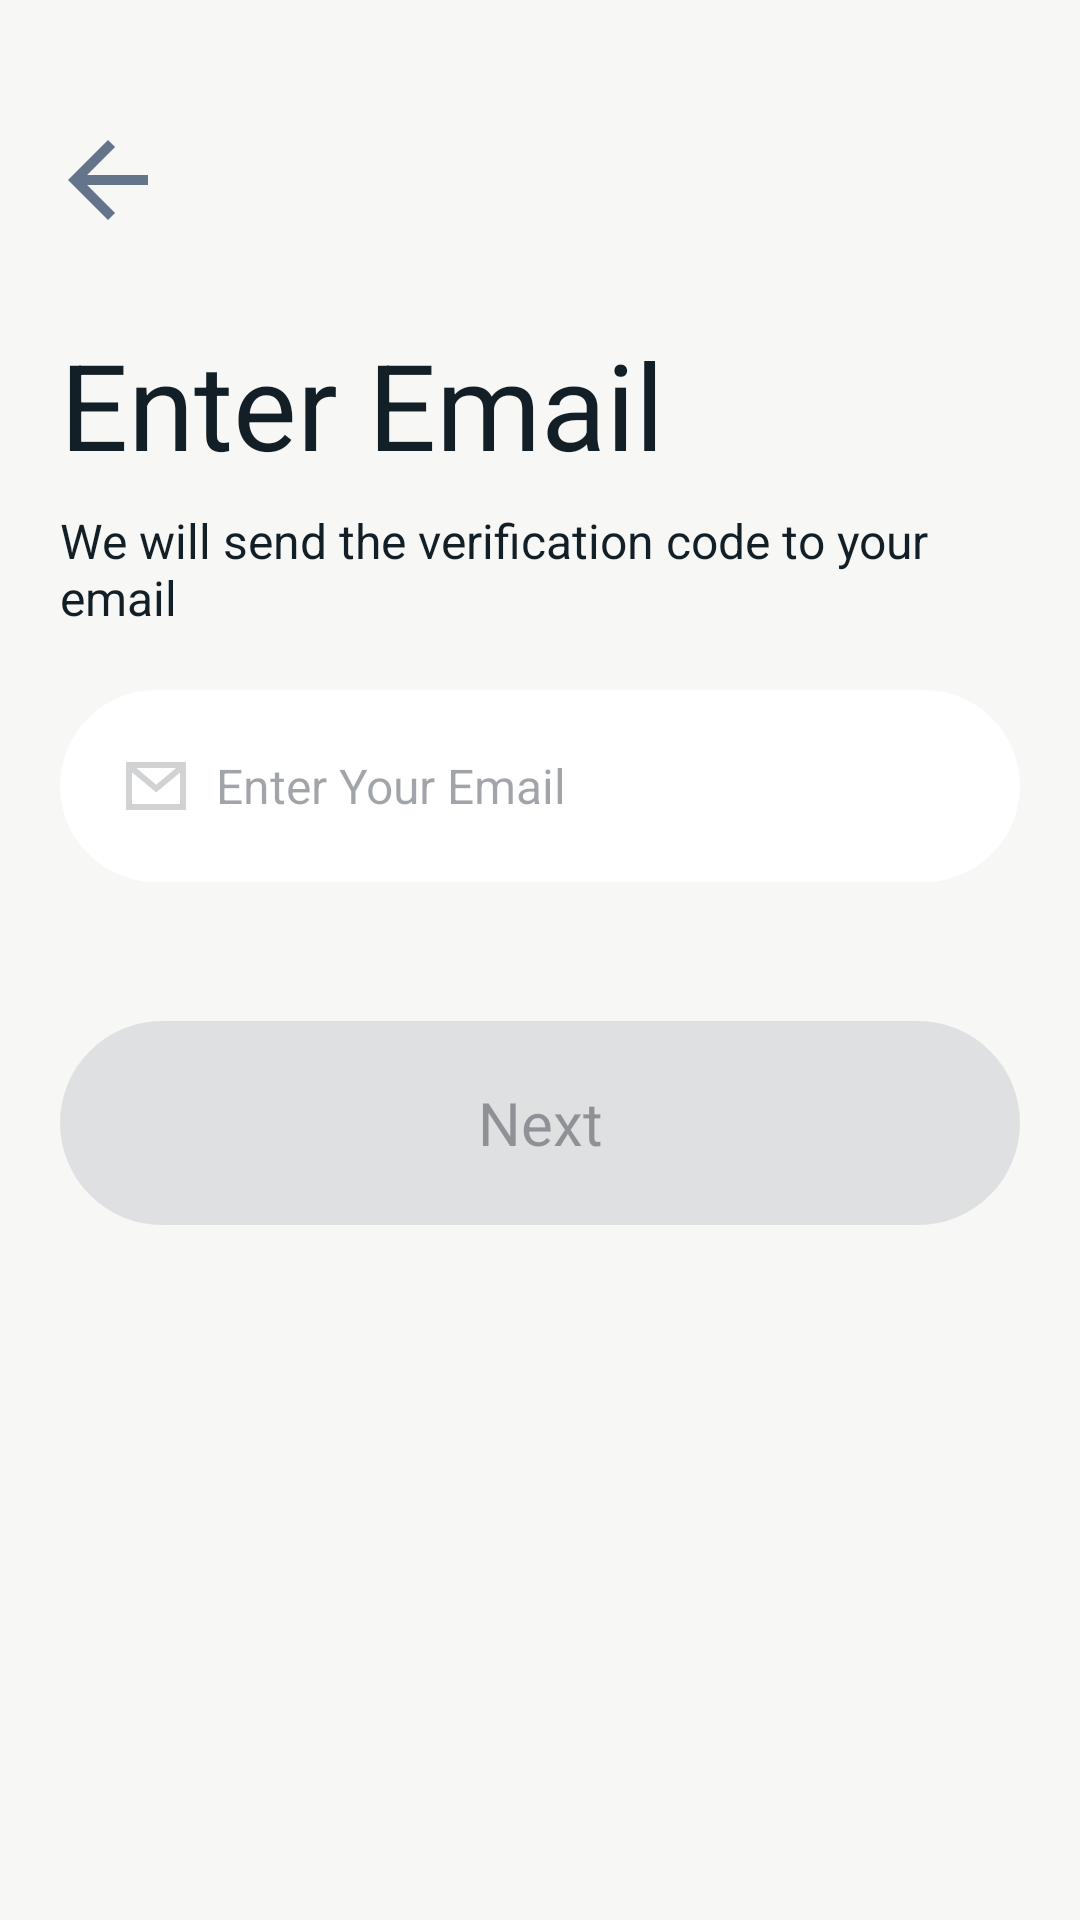

Point at icon controls on the screen. Image size 1080*1920, points as (x,y).
arrow back: (108,180)
register home email: (156,786)
